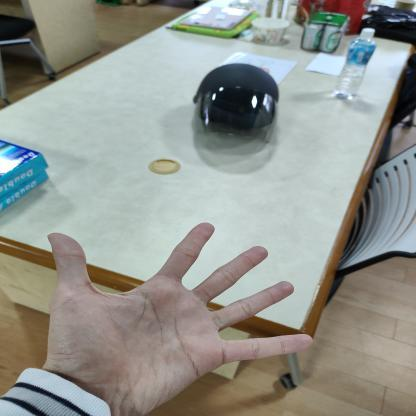bare_hand: (26, 207, 324, 410)
